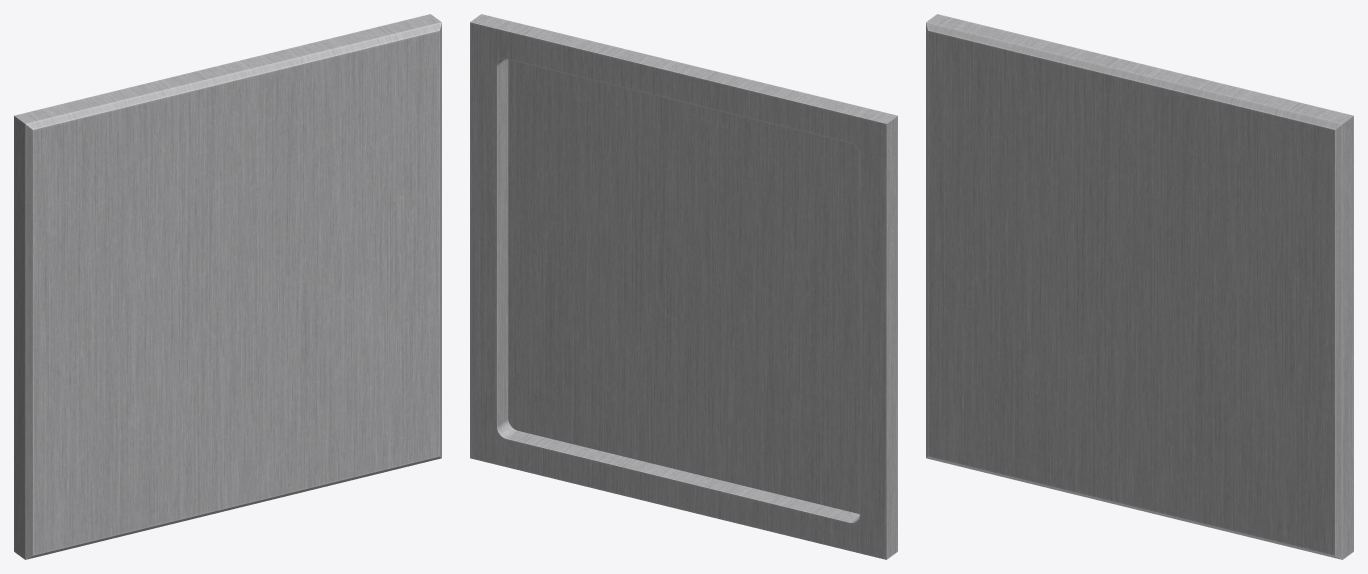
Rendered from Acier.glb.
The picture shows the model from 3 angles, left to right: view 1: azimuth 30°, elevation 25°; view 2: azimuth 150°, elevation 25°; view 3: azimuth 330°, elevation 25°; orthographic projection.
Parts seen in each view (by area): view 1: 6; view 2: 6; view 3: 6.
Boxes of the visible parts, left/top/right/bottom form: 6: left=14, top=14, right=441, bottom=559; 6: left=470, top=14, right=897, bottom=559; 6: left=926, top=14, right=1353, bottom=559.
Bounding box in the file's own units: 0.085 × 0.085 × 0.005.
Materials: 1 (1 with a texture image).
